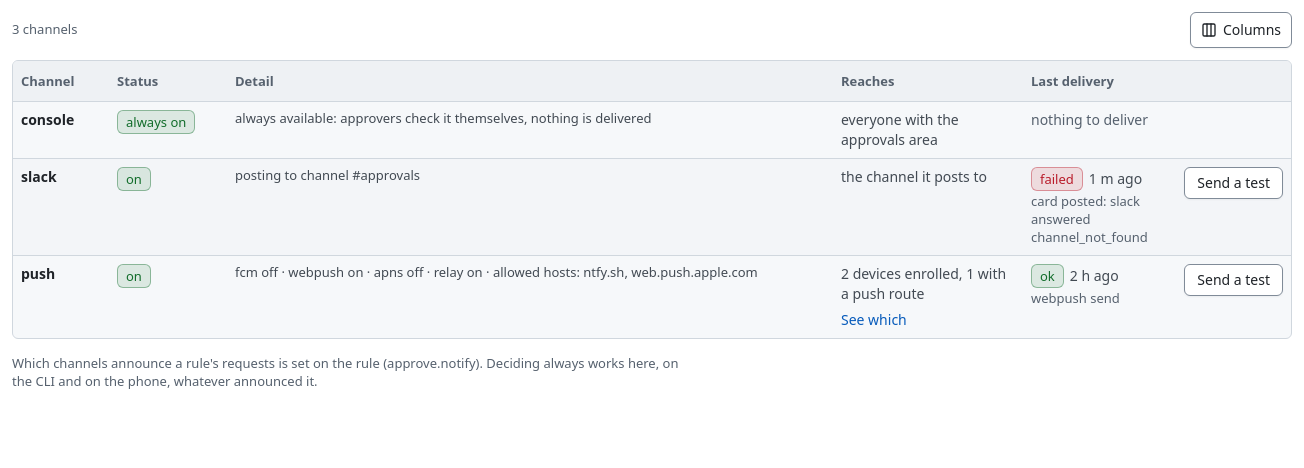
the channels tab › quotes what the server refused when the test is refused, and keeps the button
Click the button "Send a test" in the row of "posting to channel #approvals".
click(1234, 182)  # box left=1184, top=166, right=1283, bottom=198
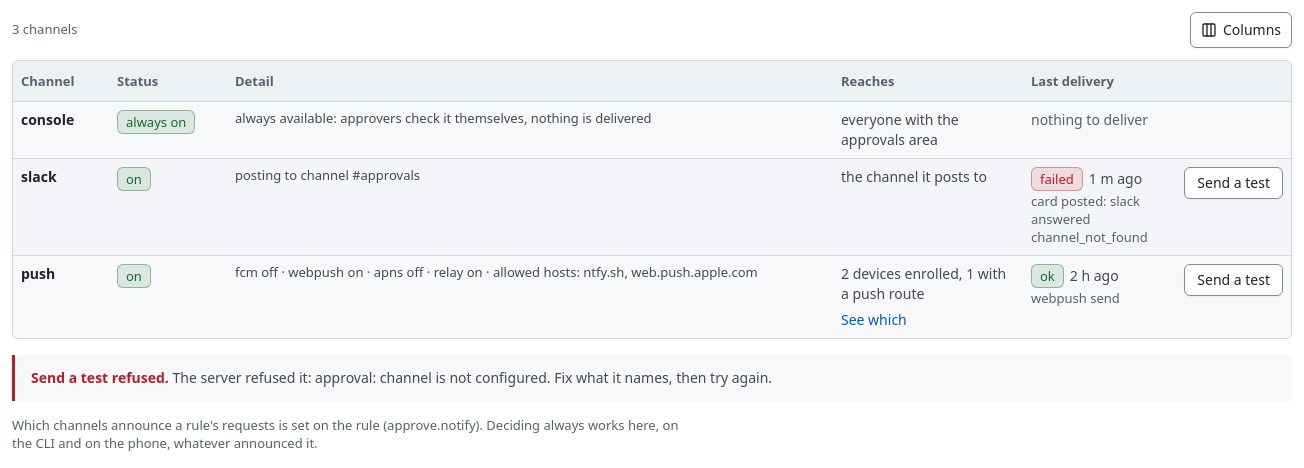
expect the message shows "The server refused it: approval: channel is not configured. Fix what it names, then try again.": met, box left=172, top=368, right=772, bottom=387
